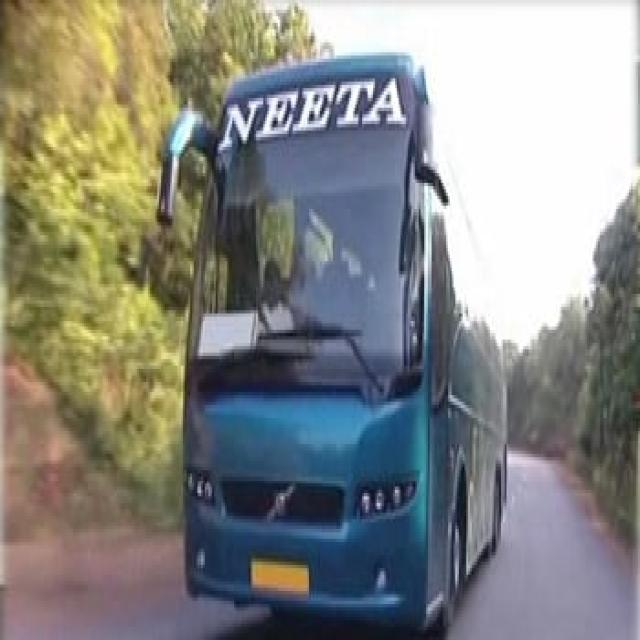bus: (157, 54, 506, 626)
